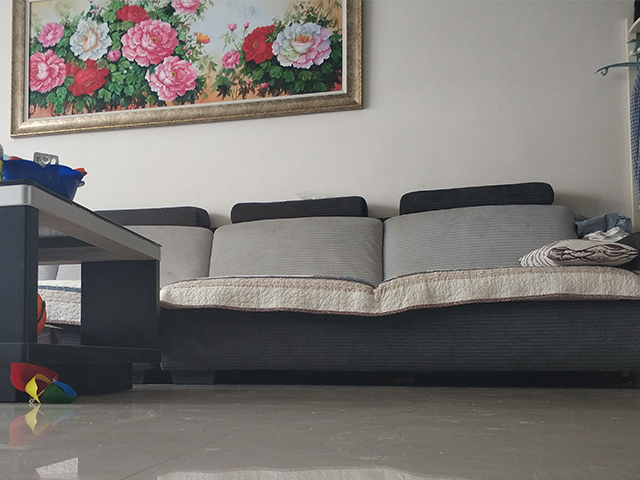sofa: (163, 180, 640, 373)
table: (1, 178, 165, 404)
